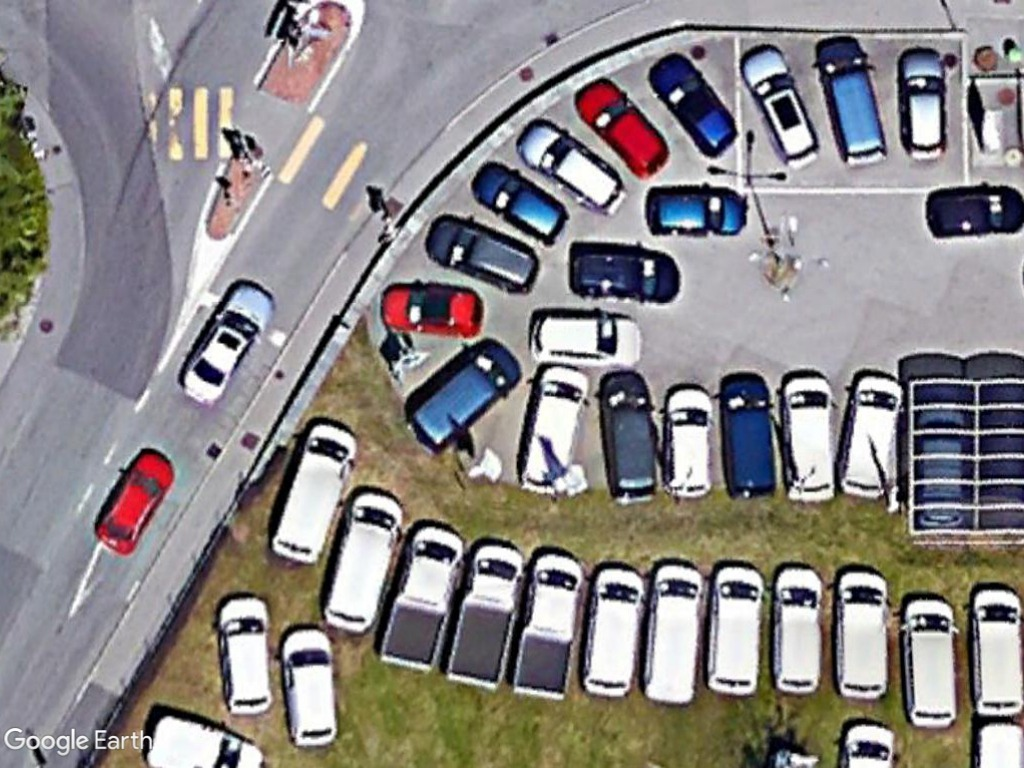car: (177, 276, 284, 408), (512, 122, 628, 216), (741, 40, 821, 168), (420, 215, 540, 297), (647, 57, 740, 160), (573, 79, 669, 178), (90, 447, 175, 558), (468, 160, 573, 249), (212, 593, 275, 719), (524, 310, 646, 372), (279, 626, 338, 749), (562, 251, 681, 309), (644, 183, 751, 243), (894, 46, 950, 160), (376, 279, 485, 337), (925, 182, 1024, 242), (662, 381, 712, 496)
others: (376, 518, 465, 672), (445, 535, 532, 690), (505, 549, 590, 703)
van: (267, 415, 357, 568), (402, 339, 521, 450), (321, 484, 406, 633), (572, 561, 649, 703), (809, 37, 890, 169), (638, 561, 710, 709), (516, 365, 595, 498), (595, 367, 662, 502), (704, 561, 766, 701), (715, 371, 782, 498), (840, 365, 902, 500), (769, 561, 829, 696), (834, 568, 894, 703), (900, 598, 958, 730), (969, 584, 1024, 719), (780, 370, 833, 502)
